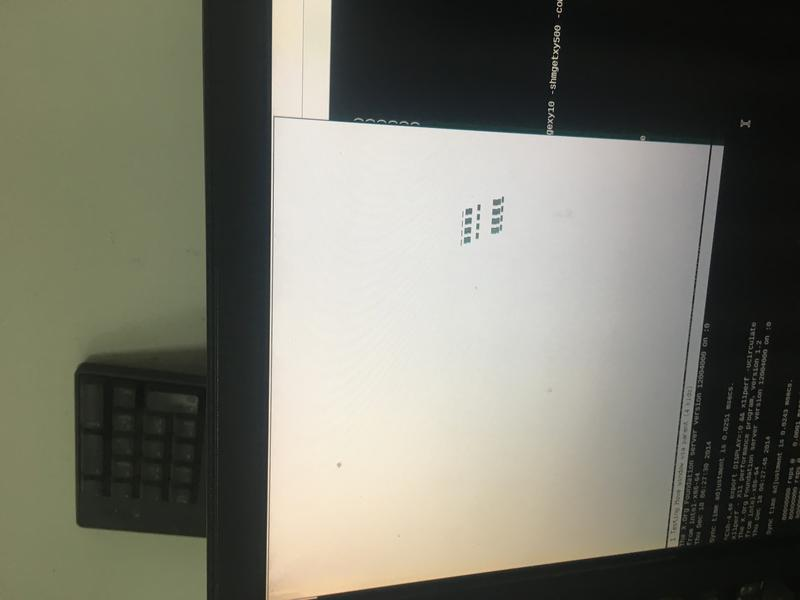xrandr_pass: (240, 109, 741, 600)
